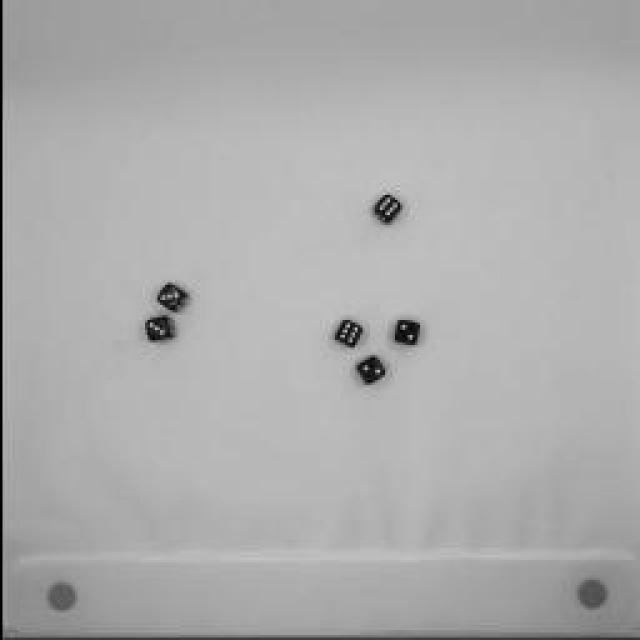dice_2: (348, 352, 388, 390), (384, 316, 421, 352)
dice_3: (132, 309, 178, 349), (146, 279, 189, 319)
dice_6: (361, 189, 404, 229), (325, 314, 365, 354)
